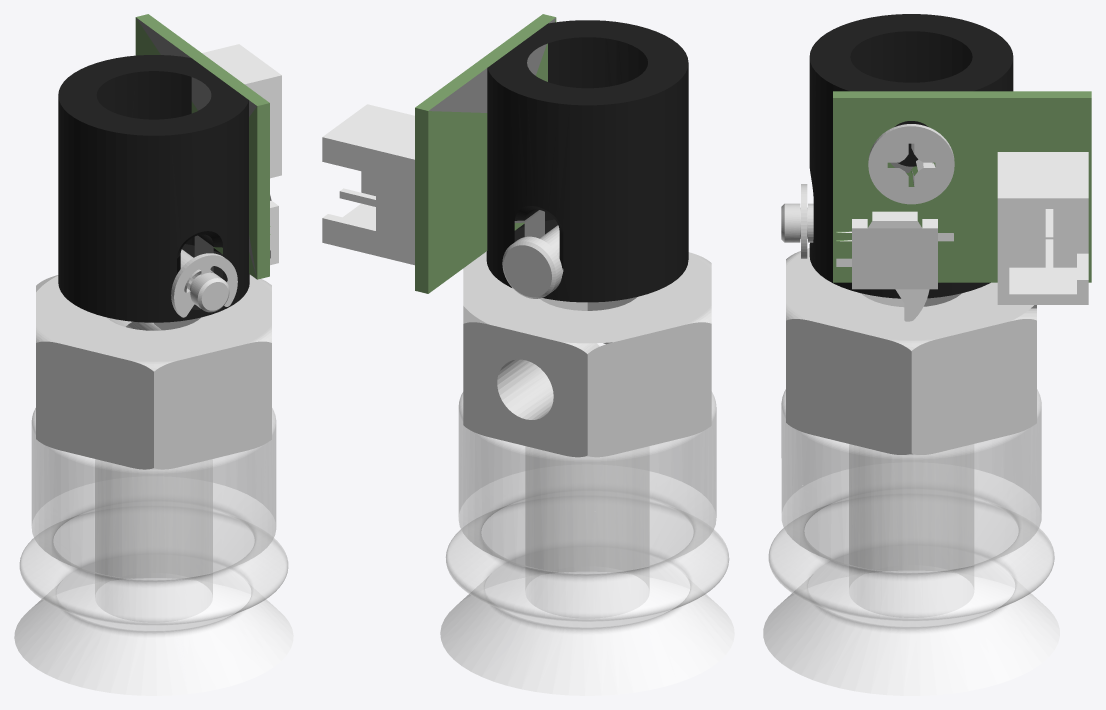
File: uArm Effector End.fbx
3 renders of one model, left to right at view 1: azimuth 30°, elevation 25°; view 2: azimuth 150°, elevation 25°; view 3: azimuth 270°, elevation 25°, orthographic. The views are drawn at different scales.
Visible parts, largest first — view 1: Uarm metal Assembly; view 2: Uarm metal Assembly; view 3: Uarm metal Assembly.
Boxes of the visible parts, left/top/right/bottom form: Uarm metal Assembly: left=14, top=14, right=293, bottom=695; Uarm metal Assembly: left=322, top=14, right=734, bottom=695; Uarm metal Assembly: left=763, top=14, right=1091, bottom=695.
Size of the model in its own units: 22.67 by 40.57 by 20.96.
